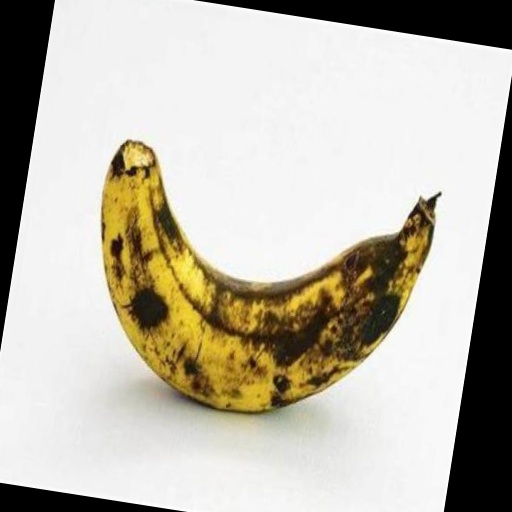fruit: (102, 141, 438, 412)
